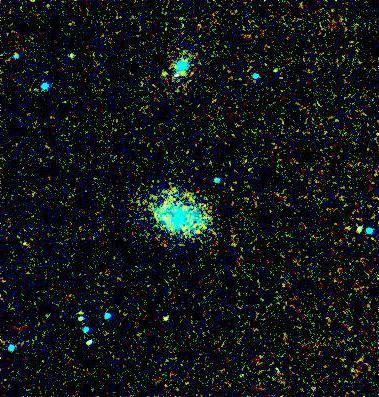star: (151, 301, 181, 331)
